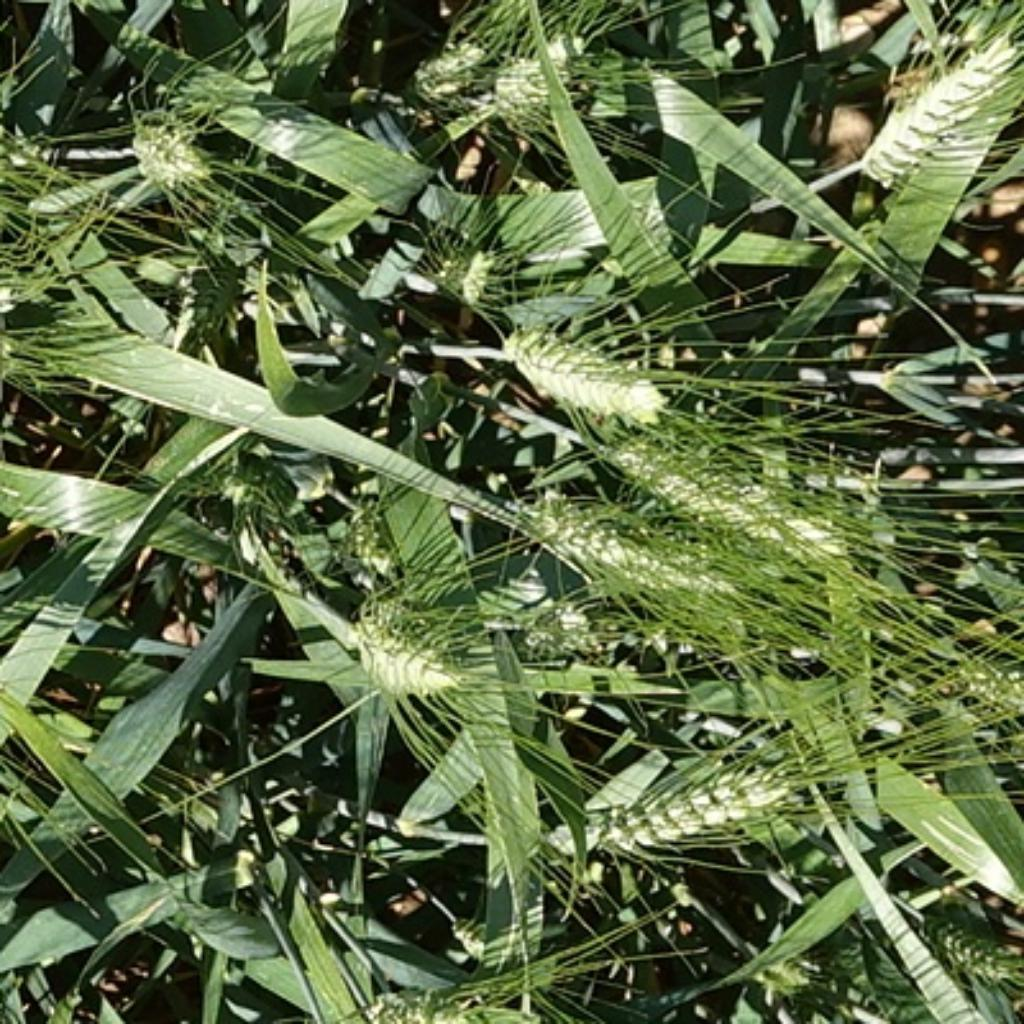0-0: (601, 424, 855, 576), (552, 742, 816, 870), (512, 483, 737, 614), (846, 30, 1023, 192), (491, 312, 665, 412), (340, 588, 468, 704), (908, 890, 1024, 998), (148, 238, 250, 353), (181, 430, 304, 524), (481, 33, 578, 125), (499, 581, 611, 660), (120, 97, 212, 186), (356, 971, 502, 1024), (401, 23, 494, 104), (327, 488, 404, 578), (427, 227, 509, 302), (451, 908, 537, 971), (942, 642, 1018, 711)
